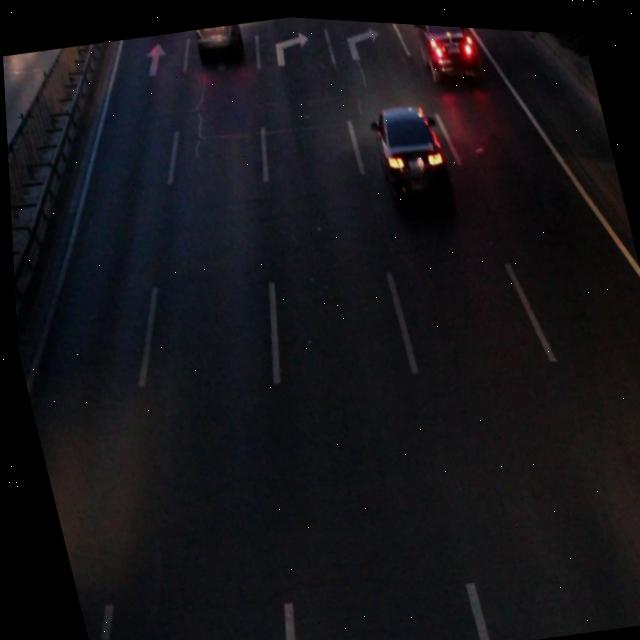car: (367, 95, 450, 204), (412, 19, 477, 78), (192, 19, 244, 55)
